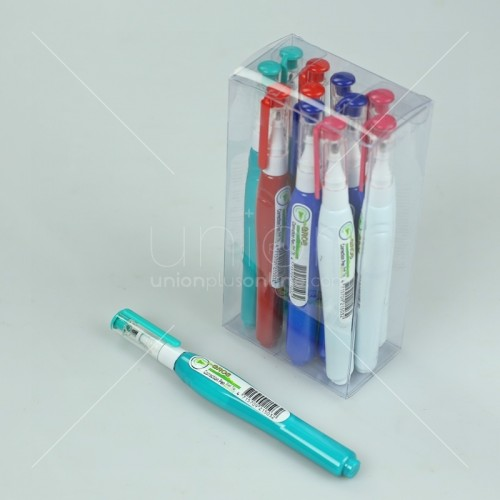Correction_fluid: (107, 306, 362, 482), (310, 115, 356, 387), (354, 113, 399, 380), (254, 83, 293, 352), (284, 98, 322, 369)
